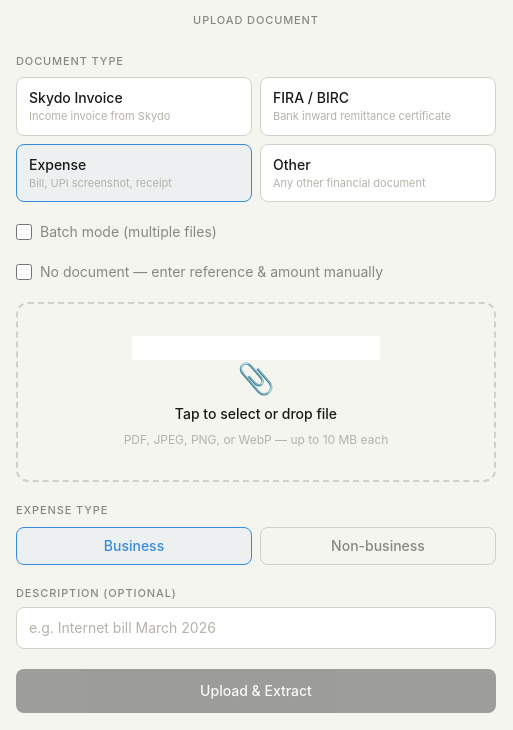
Upload page › shows error message on extraction failure
Click the text "Tap to select or drop file" at (256, 414), box [175,405,337,422]
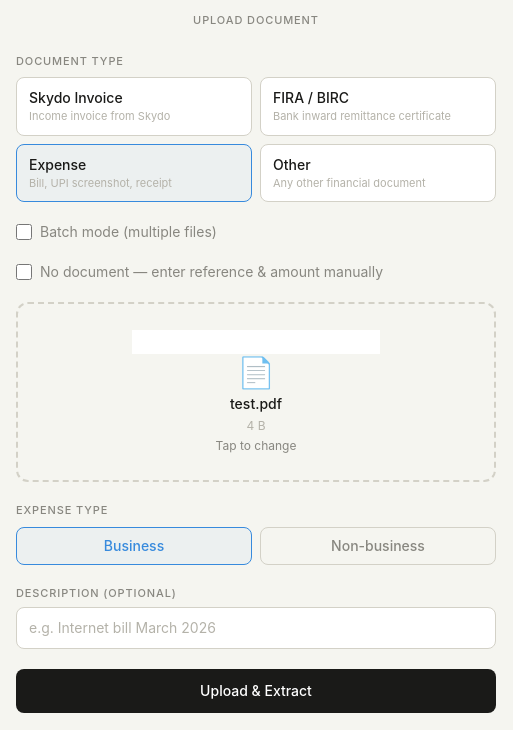
Click the button "Upload & Extract" at (256, 691), box [16,669,496,713]
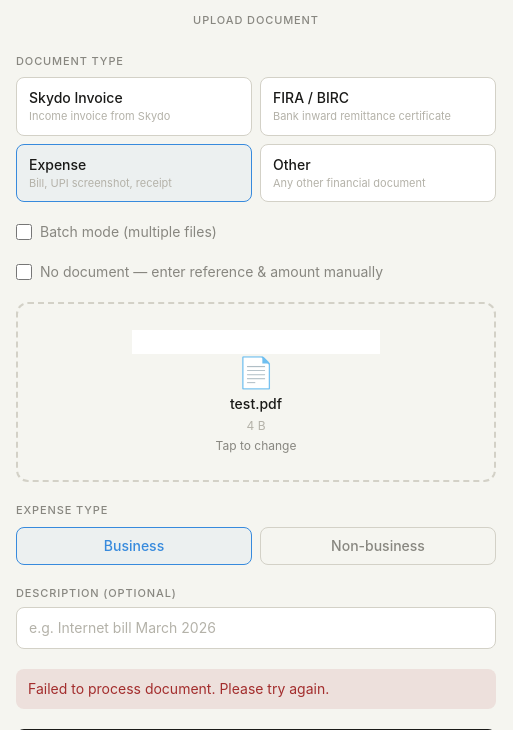
Check: the text "Failed to process document. Please try again." is shown, box [28,680,329,697]
